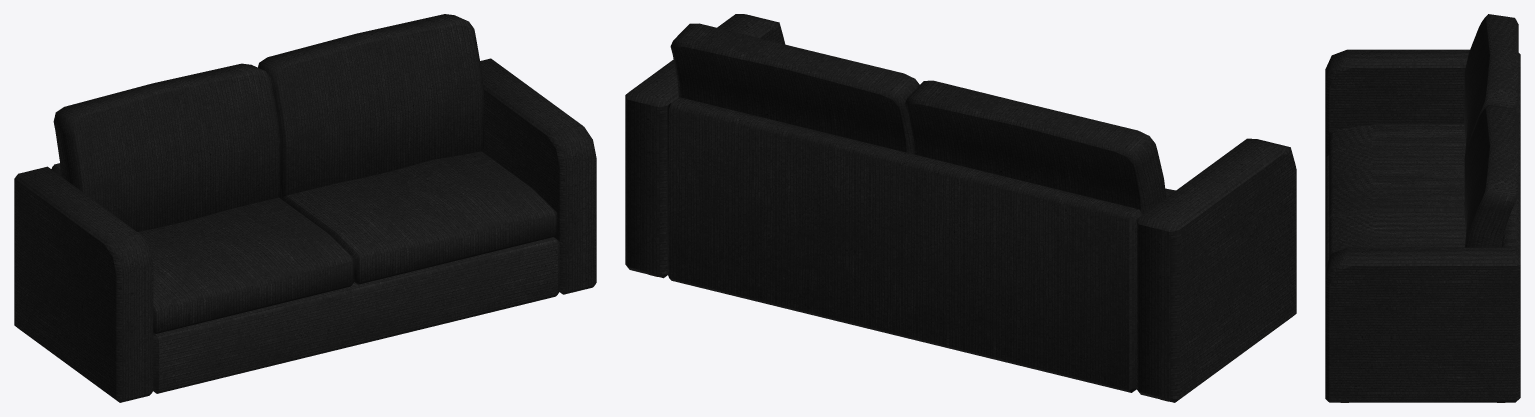
File: sofa_1_3.glb
3 renders of one model, left to right at view 1: azimuth 30°, elevation 25°; view 2: azimuth 150°, elevation 25°; view 3: azimuth 270°, elevation 25°, orthographic. The views are drawn at different scales.
Parts seen in each view (by area): view 1: sofa_1_3; view 2: sofa_1_3; view 3: sofa_1_3.
Part boxes in pixels (<box>): sofa_1_3: <box>14,14,596,402</box>; sofa_1_3: <box>625,14,1296,402</box>; sofa_1_3: <box>1325,14,1520,402</box>.
Bounding box in the file's own units: 2.6 × 1.15 × 1.
2 materials, 2 textured.
